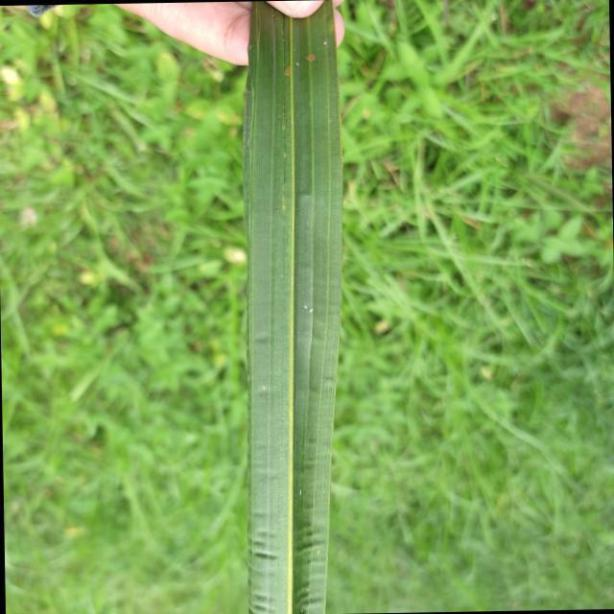Boron: (243, 0, 349, 614)
